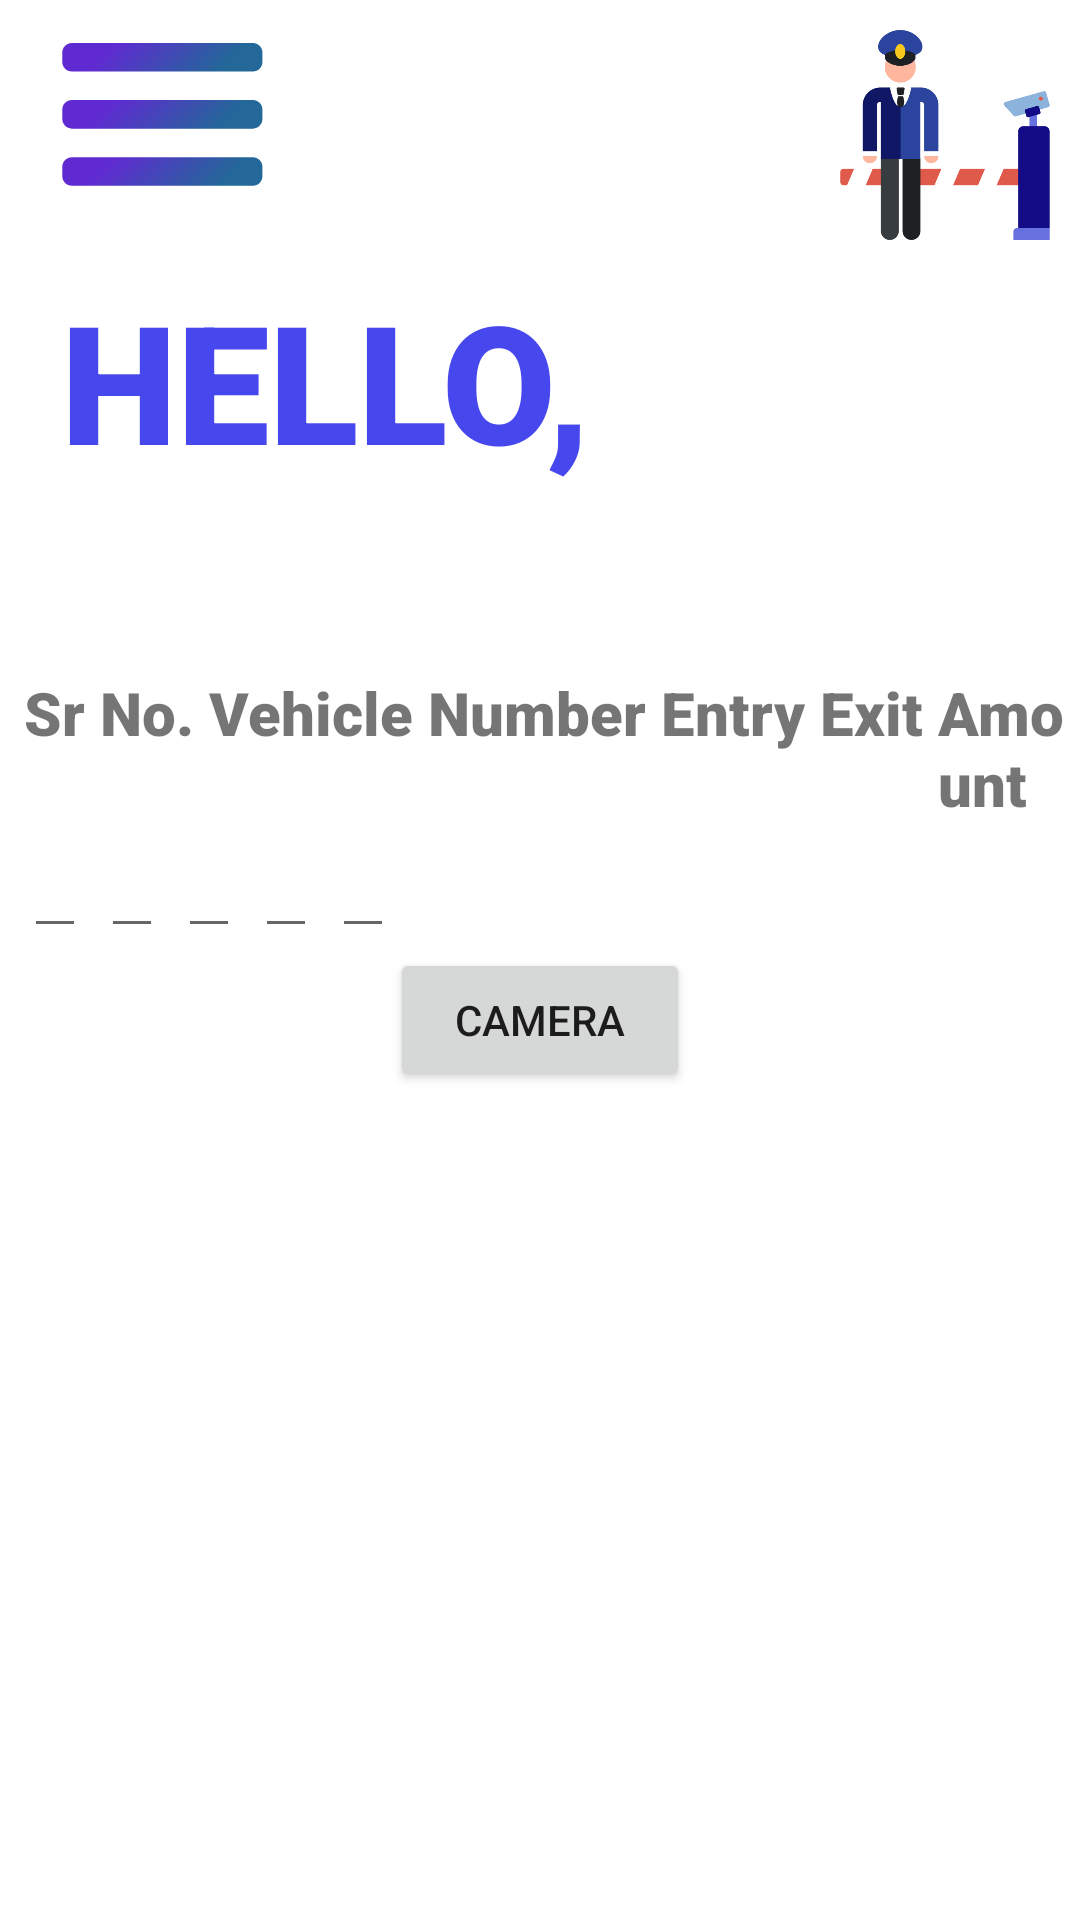

Locate icon controls on the screen. Image size 1080×1920, boxes as (x1, y1, x2, y2).
guard: (840, 30, 1050, 240)
